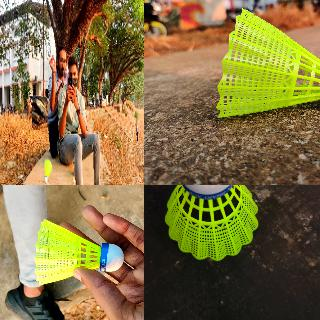shuttlecock: (215, 6, 319, 119), (165, 185, 258, 260), (34, 220, 124, 284), (44, 159, 52, 182)
